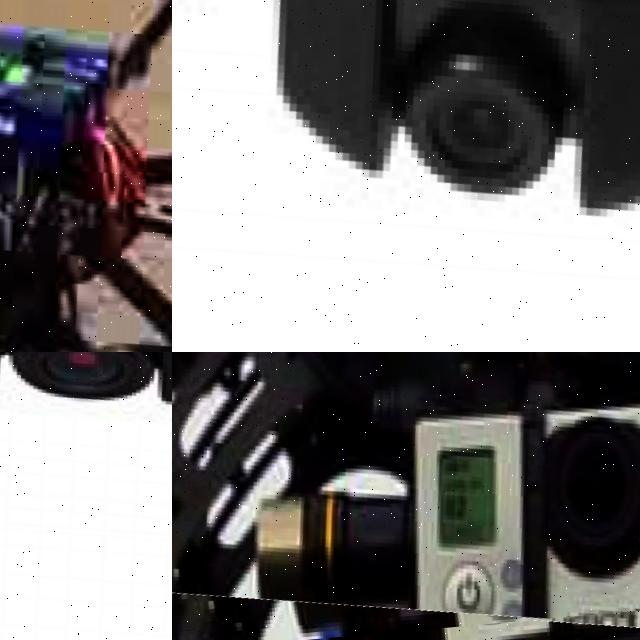drone: (172, 0, 640, 352), (172, 352, 640, 640), (0, 0, 172, 352), (0, 352, 172, 640)
